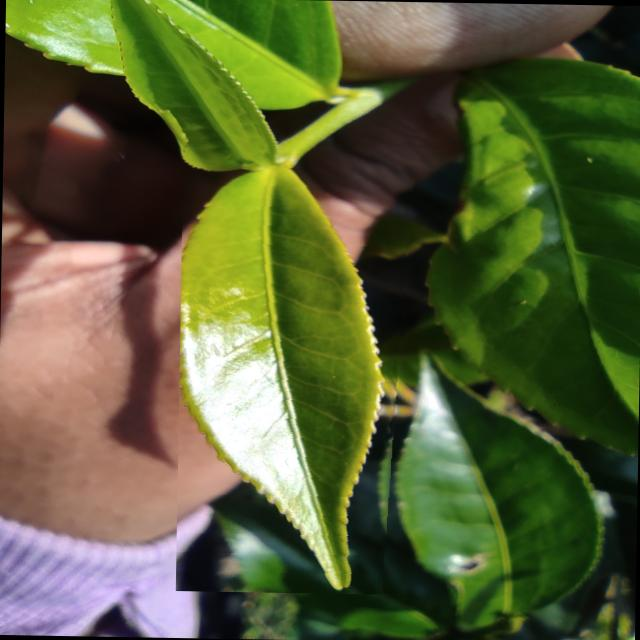Category B 2-4 days: (175, 156, 412, 594)
